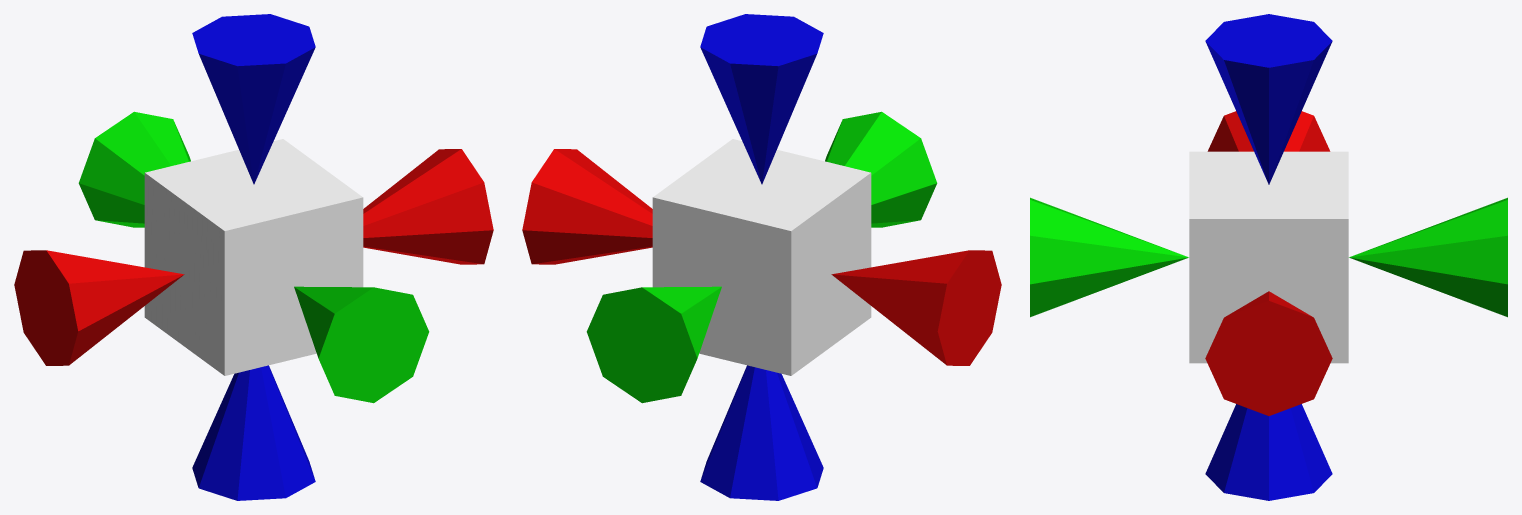
The model's file is view_gizmo.fbx.
3 renders of one model, left to right at view 1: azimuth 30°, elevation 25°; view 2: azimuth 150°, elevation 25°; view 3: azimuth 270°, elevation 25°, orthographic.
Parts seen in each view (by area): view 1: center_cube, x_cone_2, z_cone_1, y_cone_2, x_cone_1, z_cone_2, y_cone_1; view 2: center_cube, x_cone_2, z_cone_1, y_cone_1, x_cone_1, z_cone_2, y_cone_2; view 3: center_cube, z_cone_1, x_cone_1, y_cone_2, y_cone_1, z_cone_2, x_cone_2.
Boxes of the visible parts, x1=… form: center_cube: x1=144, y1=139, x2=363, y2=375; x_cone_2: x1=14, y1=250, x2=184, y2=365; z_cone_1: x1=192, y1=14, x2=315, y2=184; y_cone_2: x1=294, y1=286, x2=429, y2=403; x_cone_1: x1=363, y1=149, x2=493, y2=264; z_cone_2: x1=192, y1=365, x2=315, y2=500; y_cone_1: x1=78, y1=111, x2=190, y2=227; center_cube: x1=652, y1=139, x2=871, y2=375; x_cone_2: x1=831, y1=250, x2=1001, y2=365; z_cone_1: x1=700, y1=14, x2=823, y2=184; y_cone_1: x1=586, y1=286, x2=721, y2=403; x_cone_1: x1=522, y1=149, x2=652, y2=264; z_cone_2: x1=700, y1=365, x2=823, y2=500; y_cone_2: x1=825, y1=111, x2=937, y2=227; center_cube: x1=1189, y1=151, x2=1348, y2=363; z_cone_1: x1=1205, y1=14, x2=1332, y2=184; x_cone_1: x1=1205, y1=291, x2=1332, y2=415; y_cone_2: x1=1030, y1=197, x2=1188, y2=317; y_cone_1: x1=1349, y1=197, x2=1507, y2=317; z_cone_2: x1=1205, y1=404, x2=1332, y2=500; x_cone_2: x1=1207, y1=111, x2=1330, y2=151.
Size of the model in its own units: 300 by 300 by 300.
